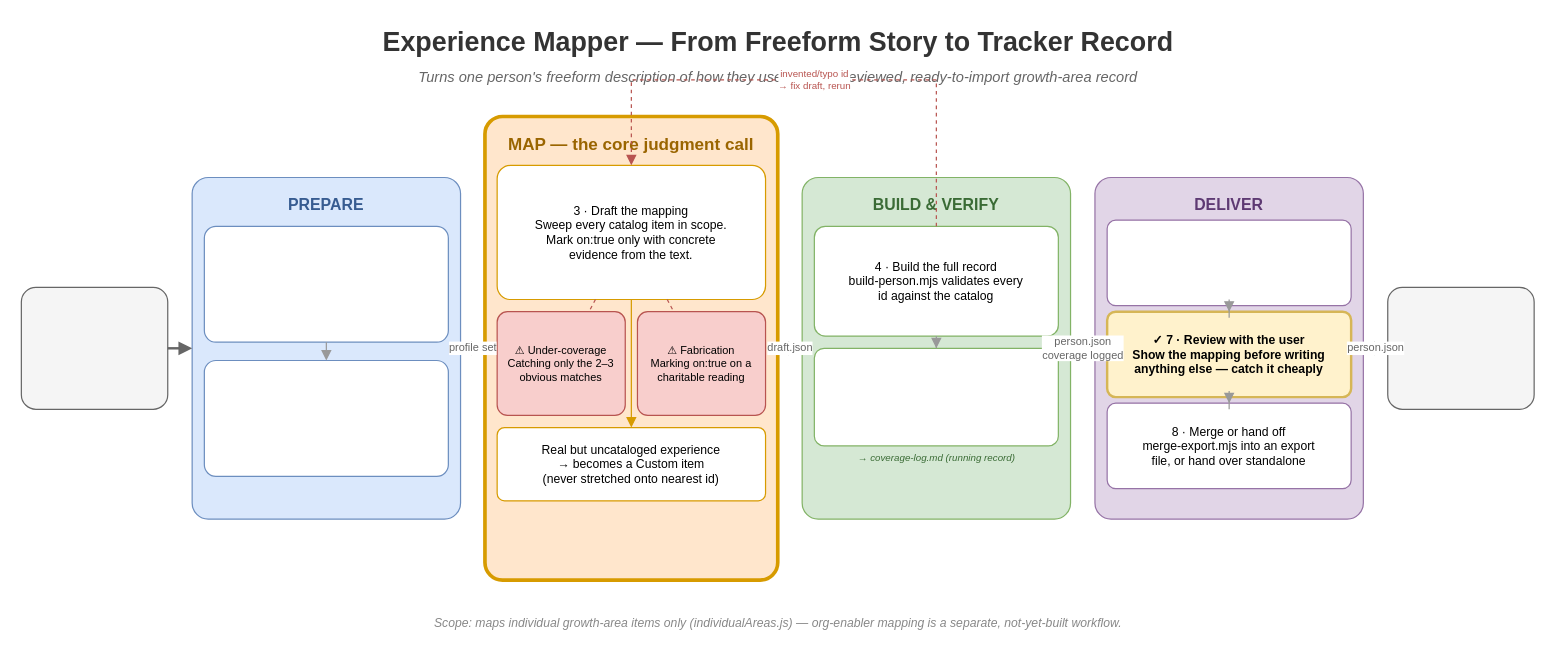
Image size: 1556x655. Some labels were removed from this diagram. Each missing label, with the centre of its shape:
"1 · Refresh the catalog extract-catalog.mjs individualAreas.js → catalog JSON" goes at point 325,283.
"2 · Set the target profile Developer → all 29 items Knowledge worker → 12 items" goes at point 325,417.
"5 · Log coverage log-coverage.mjs appends a row for this person" goes at point 935,396.
"6 · Pick 3 recommendations Natural next steps grounded in their own tools & role" goes at point 1228,262.
"📄 Individual record ready to import into the AI Journey Tracker" goes at point 1460,347.
"🧑 Freeform story about how someone uses AI" goes at point 94,347.
